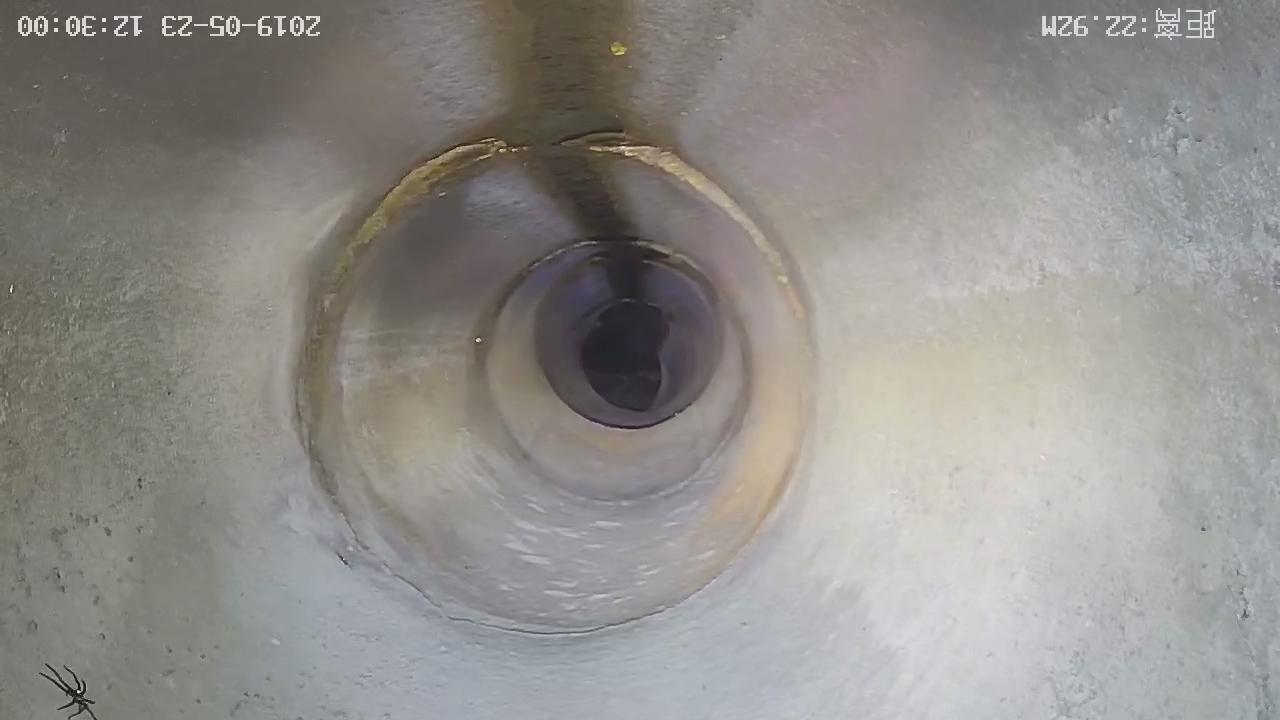CKTJ: (302, 138, 539, 405), (560, 132, 804, 316)
